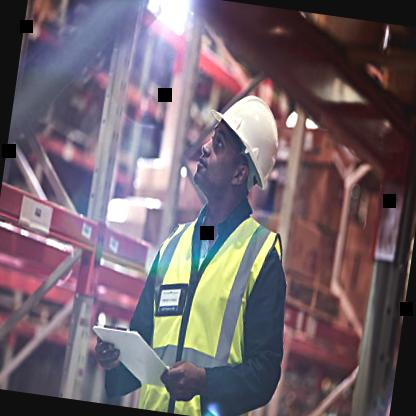helmet: (184, 67, 297, 235)
